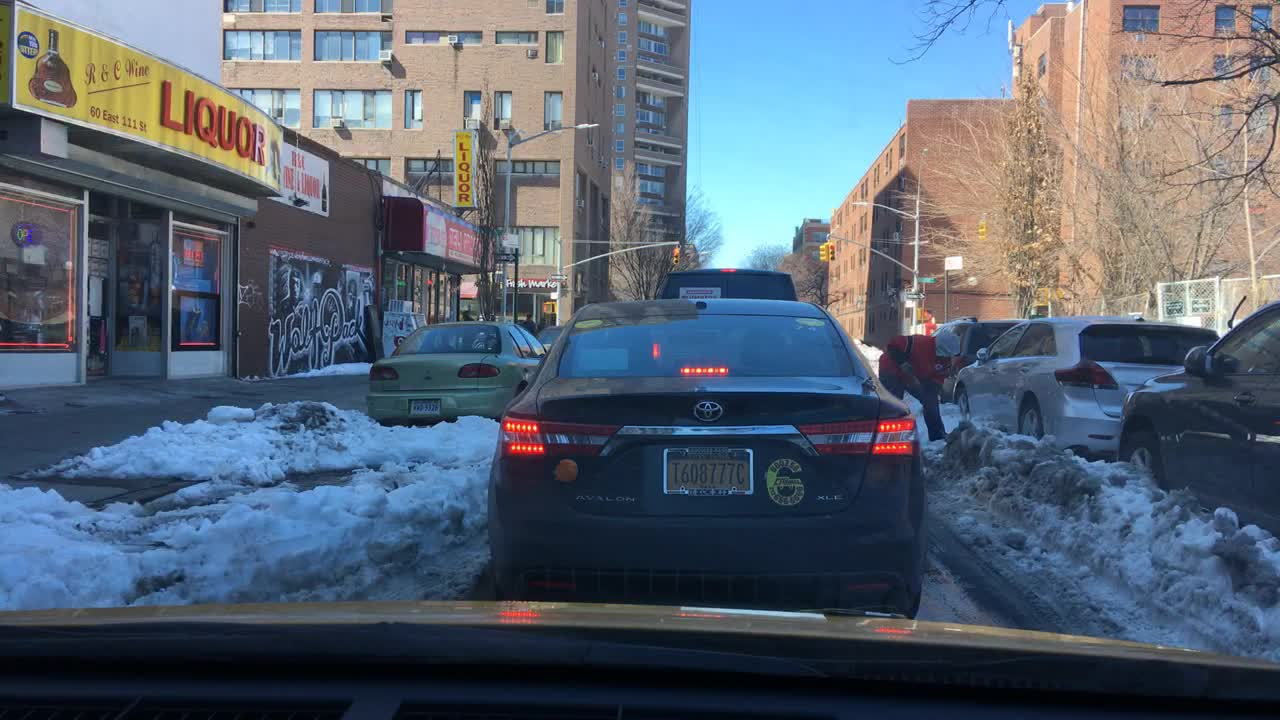car: (483, 295, 928, 617), (1114, 290, 1278, 548), (953, 314, 1219, 459), (364, 317, 548, 422), (923, 314, 1028, 402), (654, 265, 797, 299), (537, 323, 564, 353)
person: (873, 324, 954, 442)
traffic light: (917, 304, 934, 321), (816, 240, 828, 261), (977, 220, 989, 239), (539, 299, 554, 314), (827, 242, 838, 261), (672, 245, 680, 264)
traffic sign: (494, 251, 518, 264), (916, 273, 939, 283)
